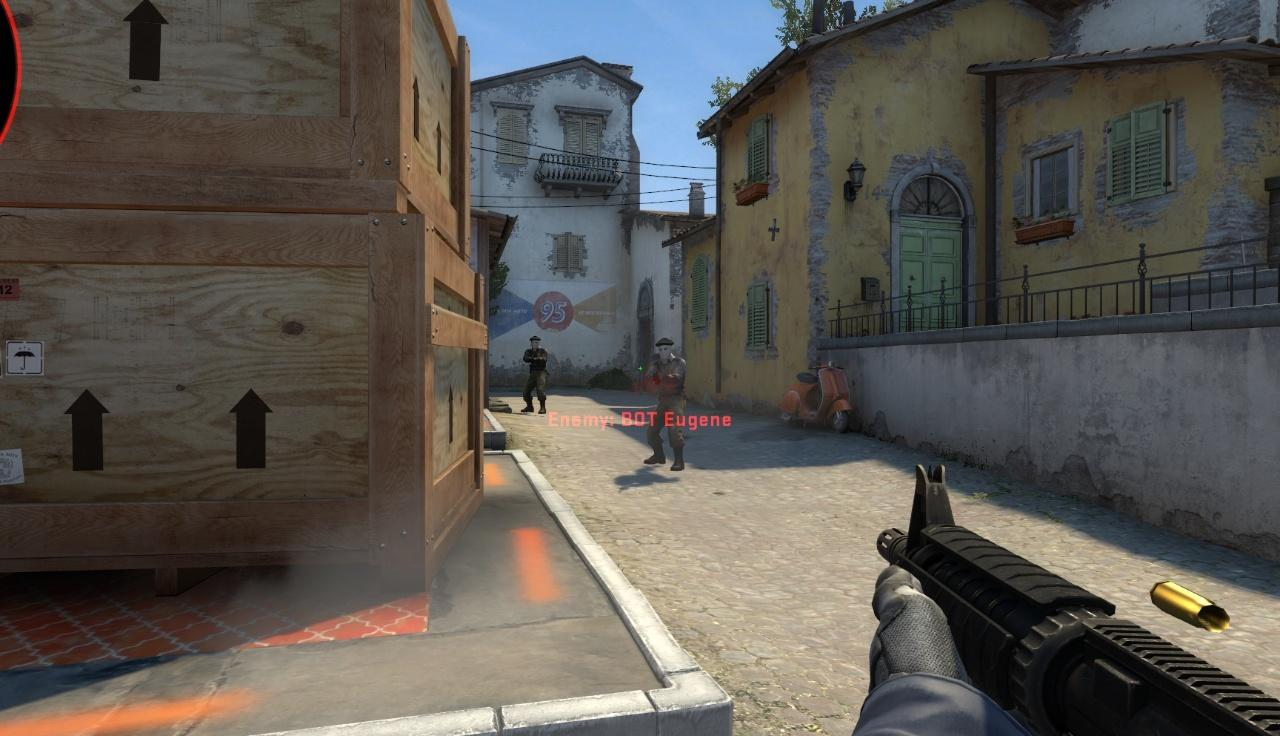rifle: (876, 462, 1280, 736)
tt: (644, 335, 687, 471), (522, 335, 548, 412)
tthead: (657, 339, 674, 364), (529, 336, 540, 349)
